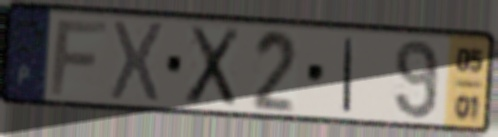2: (248, 28, 301, 115)
9: (391, 37, 441, 122)
F: (47, 18, 111, 97)
I: (340, 35, 357, 115)
X: (107, 17, 167, 107), (182, 24, 243, 110)
